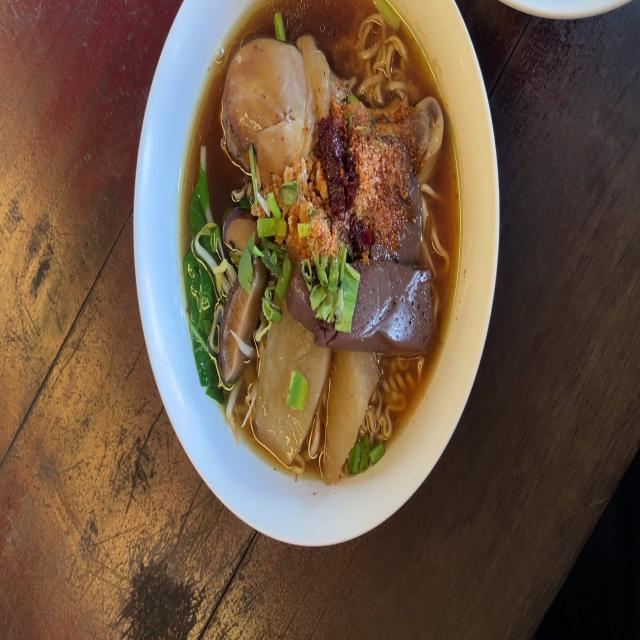boiled_chicken_blood_jelly: (338, 256, 434, 361)
chicken_drumstick: (220, 40, 440, 184)
daikon_radish: (254, 320, 376, 467)
noodle: (190, 0, 458, 474)
